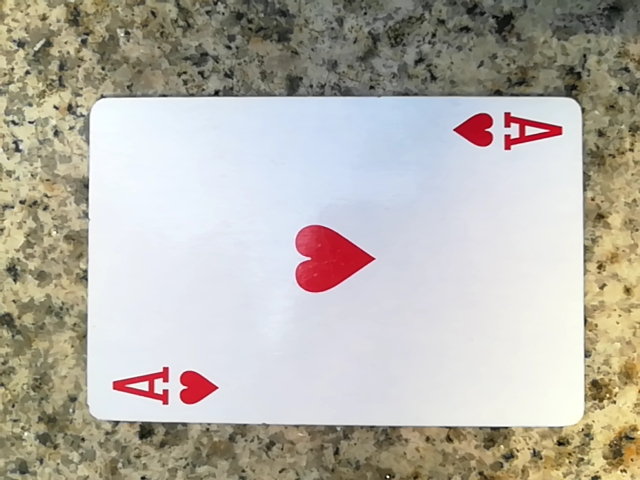hx a: (83, 93, 585, 430)
